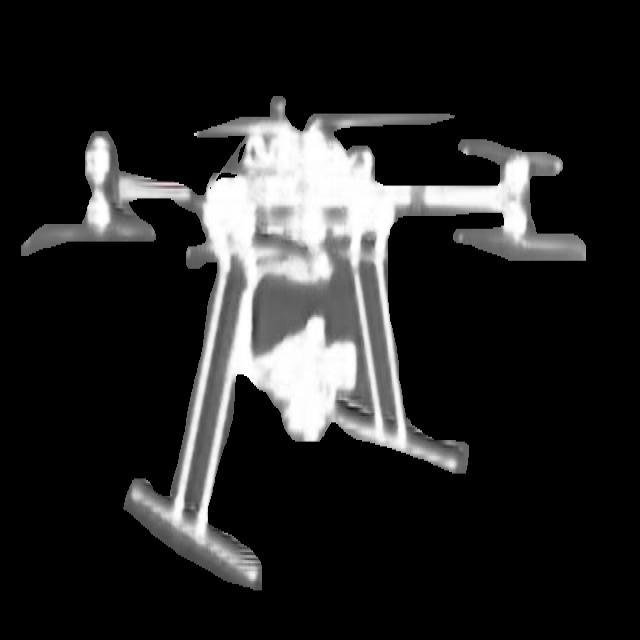drone: (29, 82, 595, 588)
